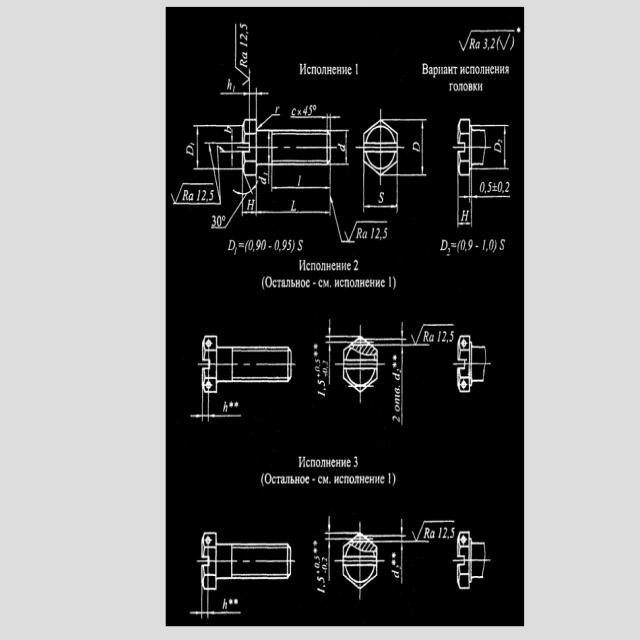marking_line: (377, 520, 403, 591), (255, 192, 331, 216), (398, 119, 427, 180), (271, 166, 331, 192), (189, 590, 241, 619), (190, 394, 242, 420), (362, 177, 398, 214), (325, 516, 343, 585), (331, 196, 355, 244), (327, 319, 343, 387), (486, 125, 509, 170), (331, 130, 350, 166), (290, 116, 340, 128), (456, 198, 473, 228), (193, 124, 204, 170), (242, 194, 257, 216), (401, 346, 404, 426), (216, 144, 225, 167), (220, 91, 269, 95), (207, 144, 215, 167), (230, 128, 234, 168), (400, 321, 404, 339)
numeric: (239, 33, 248, 42), (391, 569, 400, 578), (392, 414, 400, 424), (479, 181, 485, 194), (490, 38, 496, 51), (216, 215, 222, 227), (383, 227, 389, 239), (488, 239, 494, 251), (497, 181, 503, 193), (482, 38, 488, 50), (317, 390, 326, 398), (317, 379, 326, 387), (196, 188, 201, 202), (316, 588, 326, 595), (274, 240, 280, 251), (353, 260, 359, 271), (261, 238, 266, 251), (282, 238, 287, 251), (442, 526, 447, 539), (450, 527, 455, 540), (240, 23, 248, 31), (212, 214, 217, 226), (209, 190, 214, 202), (248, 239, 253, 251), (460, 239, 465, 251), (468, 239, 473, 251), (505, 181, 510, 193), (354, 63, 359, 75), (449, 331, 454, 343), (354, 456, 359, 468), (317, 576, 325, 583), (375, 228, 380, 239), (303, 105, 308, 116), (239, 42, 248, 48), (256, 239, 260, 252), (442, 330, 446, 343), (388, 472, 392, 485), (202, 190, 206, 202), (388, 276, 392, 288), (487, 181, 491, 193), (309, 104, 313, 116), (437, 331, 441, 343), (438, 527, 442, 539), (287, 239, 291, 250), (371, 227, 374, 239), (482, 239, 485, 251), (275, 105, 279, 114), (314, 366, 320, 372), (315, 359, 321, 365), (314, 562, 320, 568), (322, 368, 327, 375), (314, 556, 321, 561), (322, 556, 327, 563), (322, 360, 328, 365), (322, 565, 328, 570), (498, 139, 503, 144), (263, 172, 268, 177), (232, 85, 235, 92)
special_symbol: (233, 66, 252, 87), (168, 182, 183, 206), (459, 28, 472, 52), (410, 324, 424, 344), (344, 219, 356, 242), (411, 520, 424, 541), (499, 33, 511, 51), (205, 536, 213, 545), (492, 183, 497, 193), (228, 400, 234, 408), (221, 215, 227, 222), (391, 552, 397, 559), (314, 350, 319, 357), (313, 540, 318, 547), (313, 547, 318, 554), (234, 401, 239, 408), (229, 597, 233, 605), (313, 343, 318, 349), (392, 354, 397, 360), (391, 560, 396, 566), (313, 104, 317, 111), (234, 598, 238, 605), (392, 362, 396, 367), (206, 197, 208, 203)
